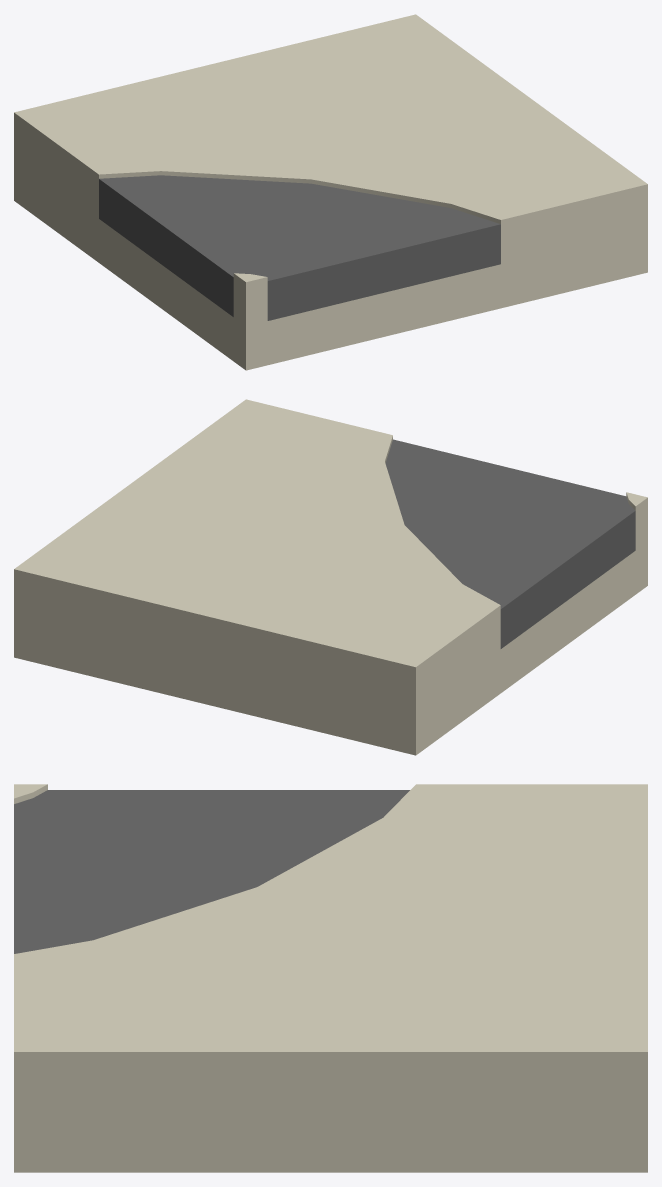
The model's file is roadTile_068.fbx.
The picture shows the model from 3 angles, top to bottom: view 1: azimuth 30°, elevation 25°; view 2: azimuth 150°, elevation 25°; view 3: azimuth 270°, elevation 25°; orthographic projection. The views are drawn at different scales.
Visible parts, largest first — view 1: roadTile_068; view 2: roadTile_068; view 3: roadTile_068.
Boxes of the visible parts, x1=… form: roadTile_068: x1=14, y1=14, x2=647, y2=370; roadTile_068: x1=14, y1=399, x2=647, y2=755; roadTile_068: x1=14, y1=784, x2=647, y2=1172.
Bounding box in the file's own units: 118 × 24.8 × 118.
